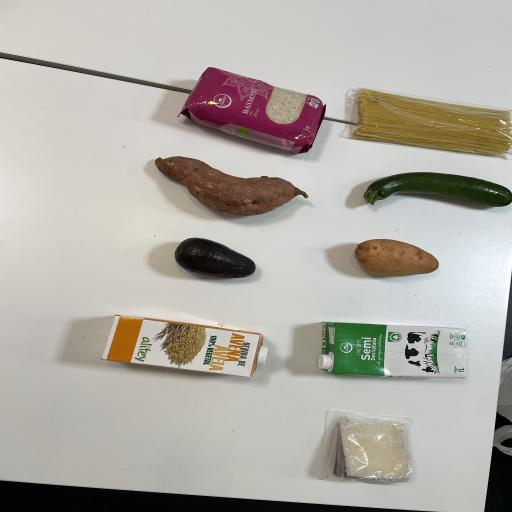avocado: (170, 235, 259, 285)
courgette: (360, 170, 512, 218)
cured_goat_cheese: (320, 417, 422, 485)
milk: (315, 318, 477, 386)
oat_milk: (98, 306, 270, 385)
rice: (176, 64, 330, 154)
spaghetti: (339, 86, 512, 161)
sweet_potato: (140, 153, 315, 221), (350, 238, 444, 283)
